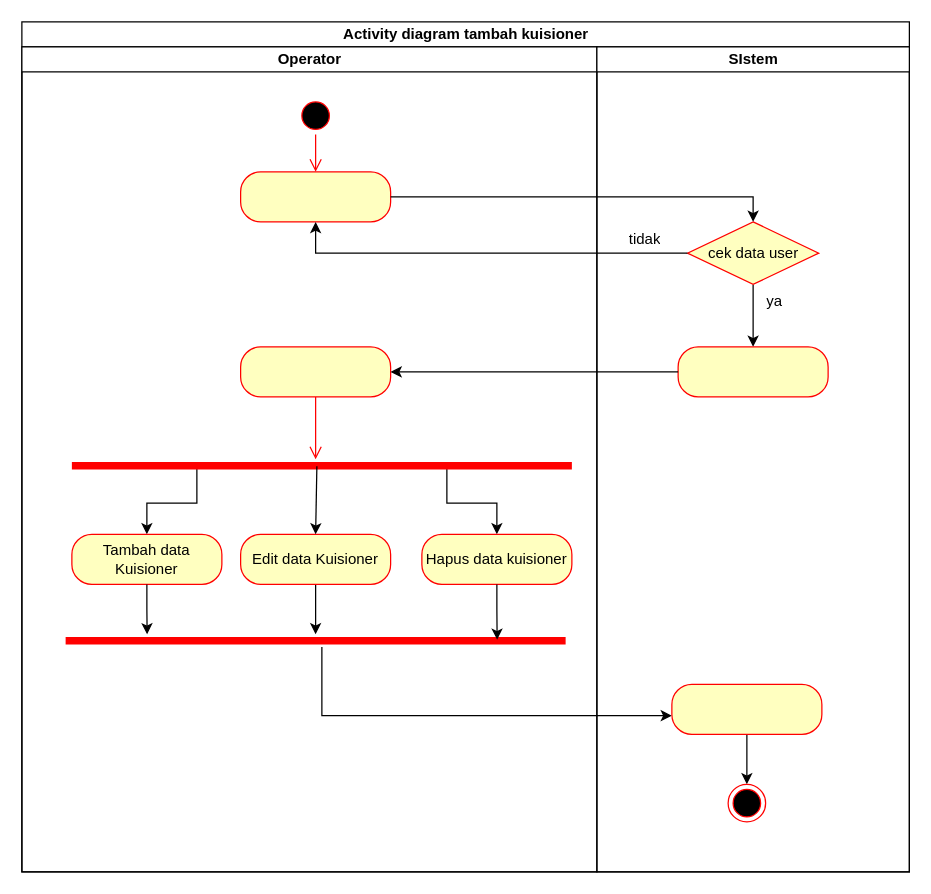
Image size: 931x894. Some labels were removed from this diagram. The centre of each missing label's shape, as x and y in pixels:
Login: point (315, 196)
Menampilkan Halaman dashboard: point (752, 371)
Mengakses menu kuisioner: point (315, 371)
Simpan data: point (746, 708)
